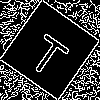T: (25, 25, 76, 80)
